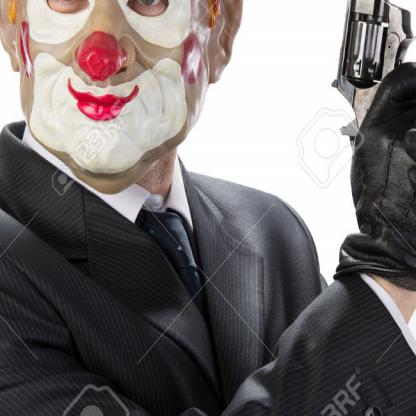gun: (322, 0, 416, 253)
